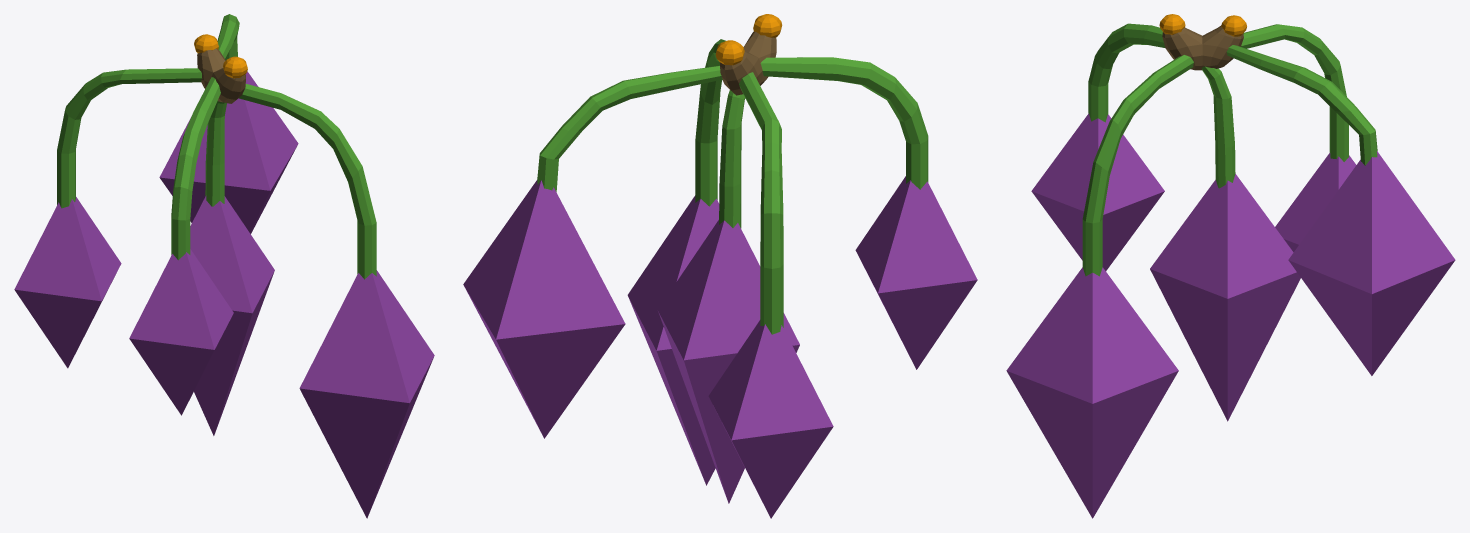
Rendered from Galins.fbx.
3 renders of one model, left to right at view 1: azimuth 30°, elevation 25°; view 2: azimuth 150°, elevation 25°; view 3: azimuth 270°, elevation 25°, orthographic. The views are drawn at different scales.
Visible parts, largest first — view 1: pCube1, pCube3, pCube5, pCube2, pCube4, pCylinder10, pCylinder12, pCylinder11, pCylinder13, pPlatonic26, pCylinder14; view 2: pCube4, pCube5, pCube3, pCube2, pCube1, pCylinder12, pCylinder11, pCylinder14, pCylinder10, pCylinder13, pPlatonic26, pSphere8; view 3: pCube1, pCube5, pCube4, pCube2, pCylinder10, pCylinder14, pCylinder12, pCube3, pCylinder11, pCylinder13, pPlatonic26.
Boxes of the visible parts, x1=… form: pCube1: x1=299, y1=270, x2=434, y2=518; pCube3: x1=14, y1=197, x2=121, y2=368; pCube5: x1=190, y1=195, x2=274, y2=435; pCube2: x1=129, y1=249, x2=233, y2=415; pCube4: x1=159, y1=71, x2=298, y2=233; pCylinder10: x1=239, y1=84, x2=376, y2=279; pCylinder12: x1=57, y1=68, x2=201, y2=208; pCylinder11: x1=171, y1=77, x2=220, y2=260; pCylinder13: x1=205, y1=101, x2=226, y2=206; pPlatonic26: x1=197, y1=48, x2=245, y2=103; pCylinder14: x1=217, y1=14, x2=239, y2=60; pCube4: x1=463, y1=180, x2=625, y2=438; pCube5: x1=657, y1=220, x2=799, y2=503; pCube3: x1=708, y1=320, x2=833, y2=518; pCube2: x1=855, y1=176, x2=977, y2=369; pCube1: x1=627, y1=195, x2=719, y2=485; pCylinder12: x1=739, y1=72, x2=783, y2=334; pCylinder11: x1=760, y1=57, x2=928, y2=189; pCylinder14: x1=537, y1=65, x2=722, y2=191; pCylinder10: x1=695, y1=39, x2=725, y2=206; pCylinder13: x1=719, y1=90, x2=745, y2=228; pPlatonic26: x1=719, y1=31, x2=776, y2=95; pSphere8: x1=715, y1=40, x2=744, y2=65; pCube1: x1=1006, y1=267, x2=1178, y2=518; pCube5: x1=1150, y1=174, x2=1300, y2=421; pCube4: x1=1288, y1=151, x2=1455, y2=375; pCube2: x1=1031, y1=113, x2=1164, y2=270; pCylinder10: x1=1082, y1=55, x2=1193, y2=276; pCylinder14: x1=1226, y1=45, x2=1377, y2=165; pCylinder12: x1=1241, y1=24, x2=1348, y2=161; pCube3: x1=1275, y1=153, x2=1356, y2=252; pCylinder11: x1=1088, y1=23, x2=1165, y2=122; pCylinder13: x1=1201, y1=66, x2=1235, y2=188; pPlatonic26: x1=1162, y1=25, x2=1243, y2=70.
Size of the model in its own units: 3.34 by 4.75 by 4.22.
